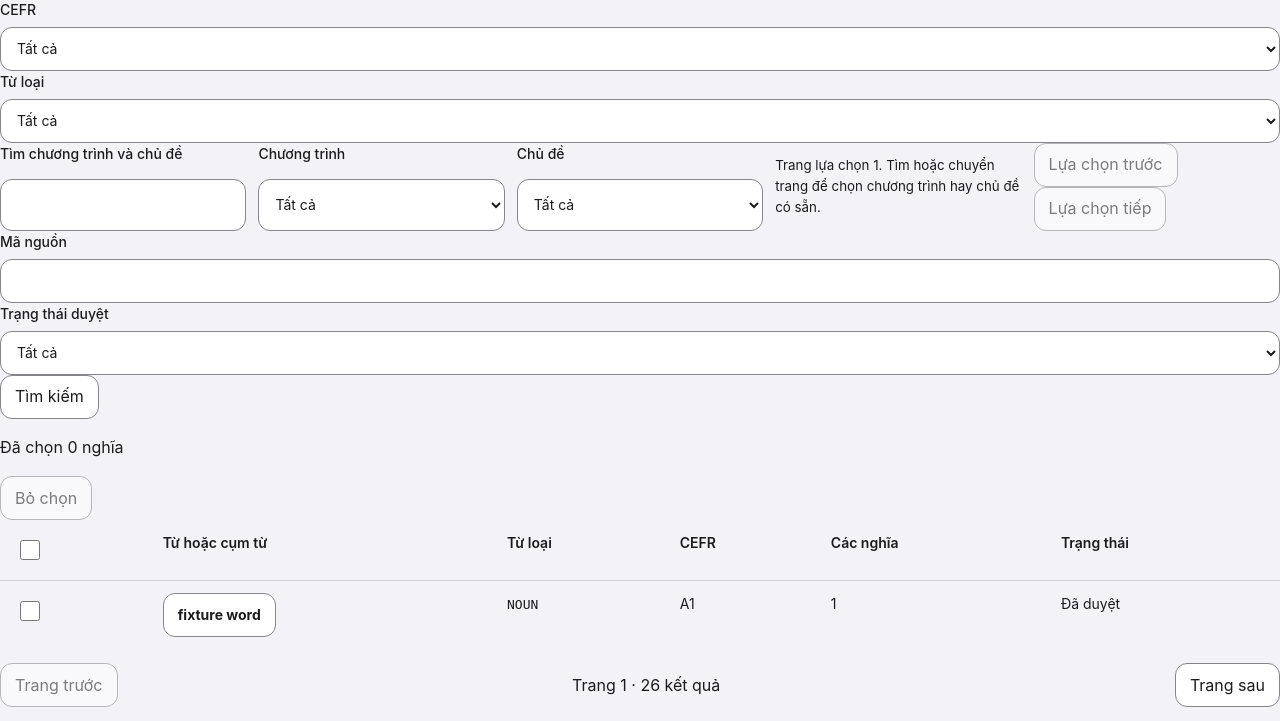
vocabulary workspace › shows truthful TXT entry provenance and attribution in vi
(page scrolled)
Click the button "fixture word". click: (219, 615)
box: 163,593 -> 276,637
(page scrolled)
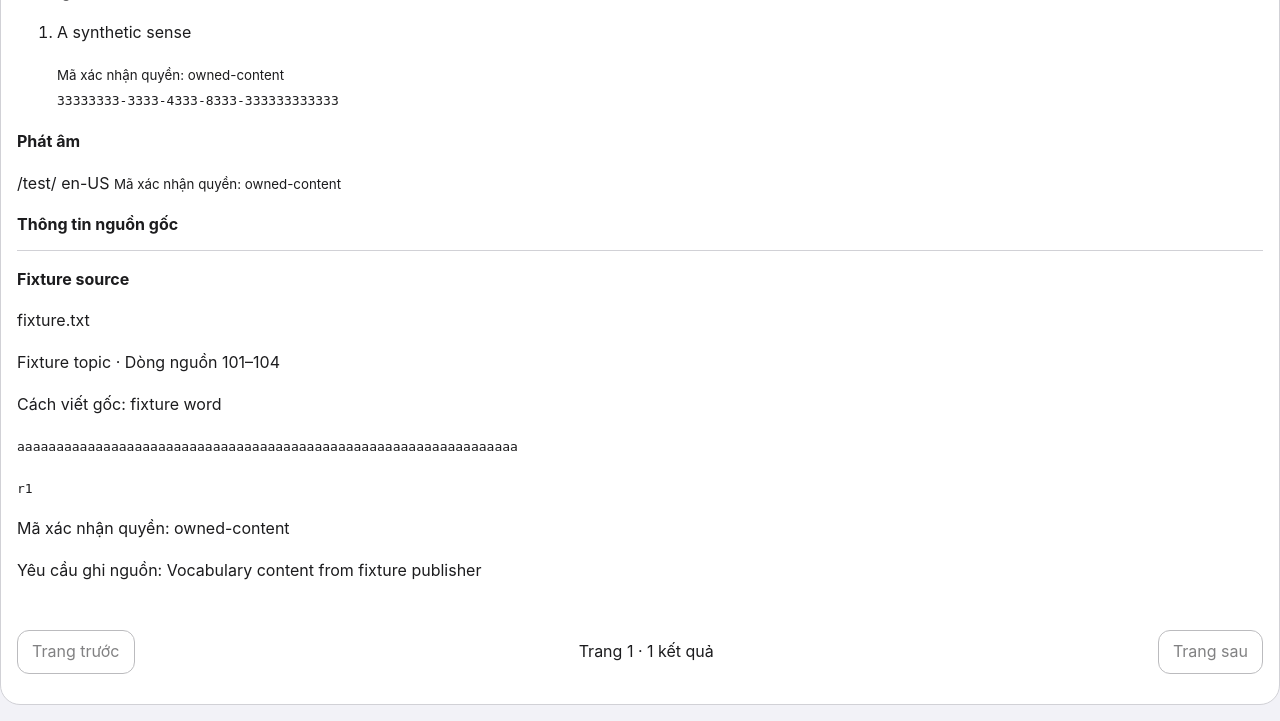
expect the text "Dòng nguồn 101–104" is shown: met, box 125,352 -> 280,372
expect the element "Thông tin nguồn gốc" shows "Vocabulary content from fixture publisher": met, box 167,560 -> 482,580
